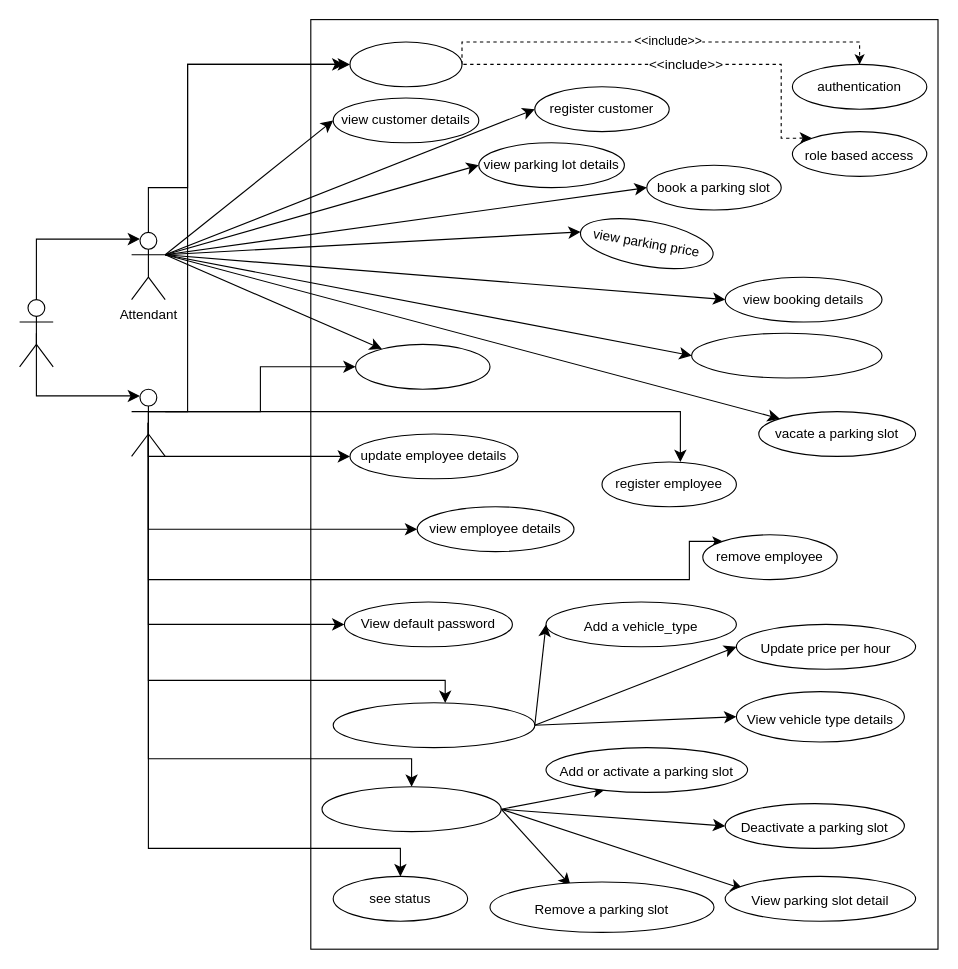
This 958x969 diagram has some shape labels left out. The shapes that lost their labels are listed below. From the top down, each one's box as (x1, y1, x2, y2) in pixels, then its label:
(349, 41, 462, 87): login
(18, 298, 53, 367): User
(354, 343, 490, 389): View your details
(690, 332, 882, 378): update customer details
(130, 388, 165, 456): Admin
(332, 702, 535, 748): manage vehicle type and price
(321, 786, 501, 832): manage parking slots
